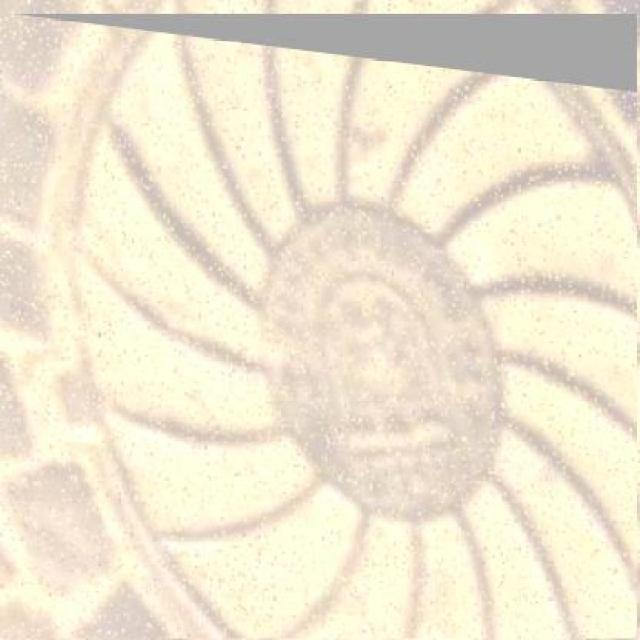Manhole: (15, 10, 640, 636)
